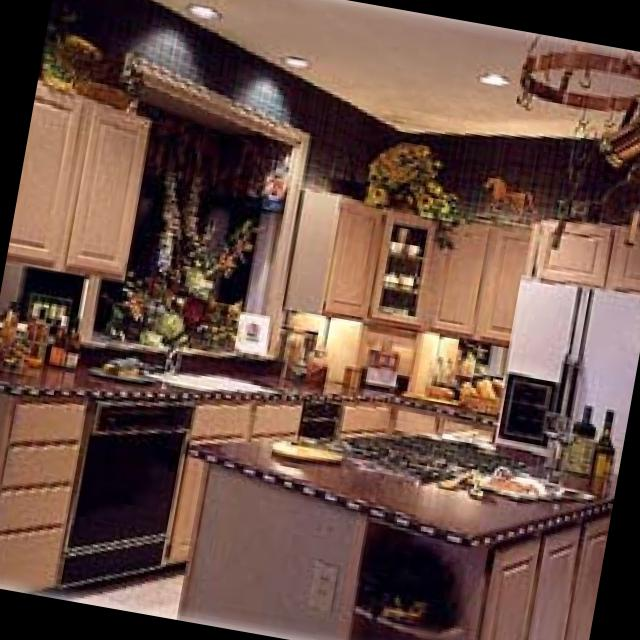2001: (100, 81, 296, 342)
basket crop: (465, 391, 505, 415)
bottle crop: (566, 401, 601, 475), (593, 404, 622, 471), (0, 298, 24, 350)
bottles occluded: (29, 293, 87, 367)
bouquet: (111, 169, 268, 344)
cabinet door: (0, 390, 90, 588)
cabinets: (287, 186, 640, 337), (483, 512, 611, 640)
ceiling beam: (162, 0, 640, 133)
ceiling lamps: (479, 68, 511, 84), (193, 3, 224, 18), (287, 50, 310, 66)
counter bottom: (0, 355, 502, 426)
dishwasher: (64, 395, 197, 588)
floor -X: (47, 571, 187, 615)
glasses -X: (544, 411, 584, 476)
hanging pitcher: (601, 91, 640, 165)
hanging rack: (523, 34, 640, 110)
jar -X: (307, 343, 334, 382), (342, 361, 369, 386)
picture occluded: (237, 314, 275, 352)
plant -x: (48, 12, 150, 109), (370, 142, 465, 219)
plate food: (484, 473, 553, 498), (274, 440, 352, 461), (91, 357, 150, 382), (427, 428, 498, 448)
pot hanger: (370, 347, 403, 384)
refrigerator: (499, 275, 640, 476)
shelves crop: (352, 515, 484, 640)
sink basin: (154, 366, 277, 389)
sink occluded: (167, 345, 187, 372)
statue: (484, 171, 543, 217)
stove burner: (351, 431, 534, 482)
trash crop: (303, 402, 346, 433)
utensils: (438, 465, 491, 499)
wall outlets: (309, 553, 341, 612)
